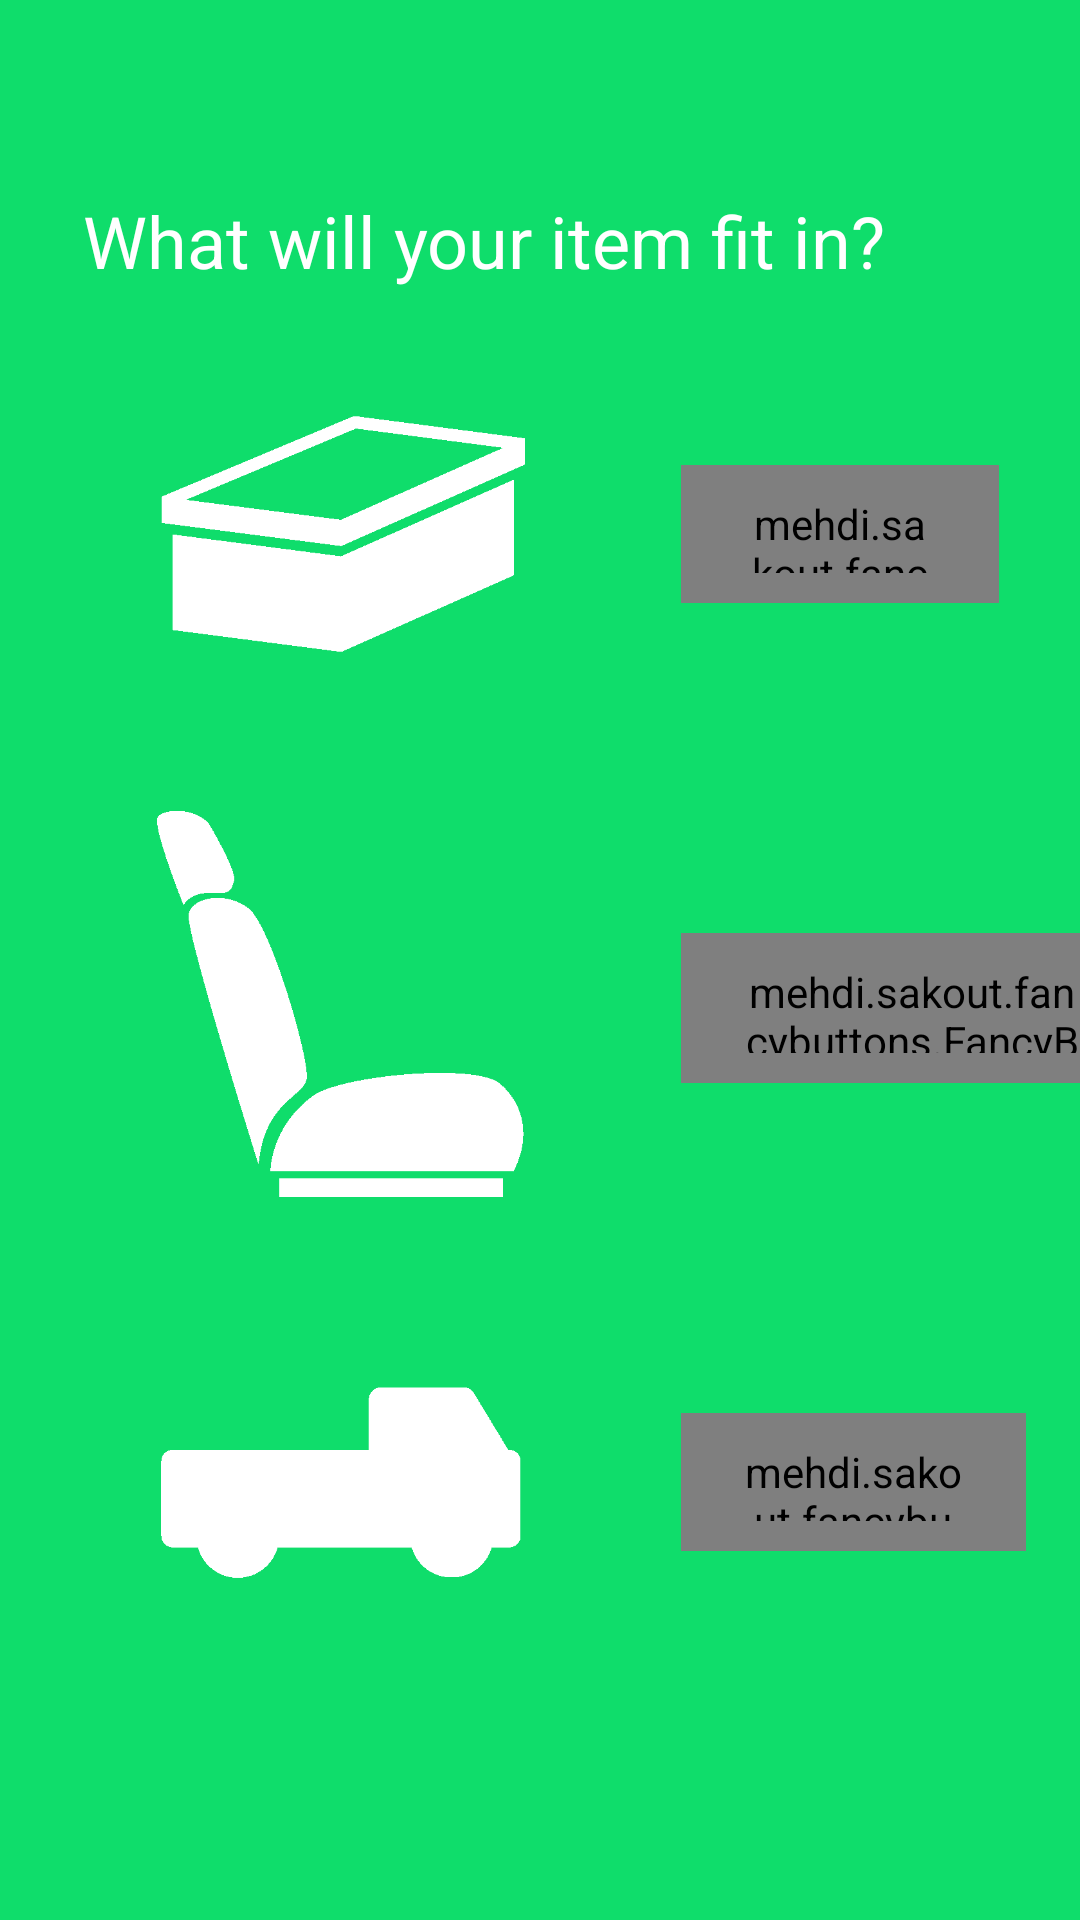

Point at icon controls on the screen. Image size 1080px x 1920px, points as point (x, y).
truck: point (341, 1482)
